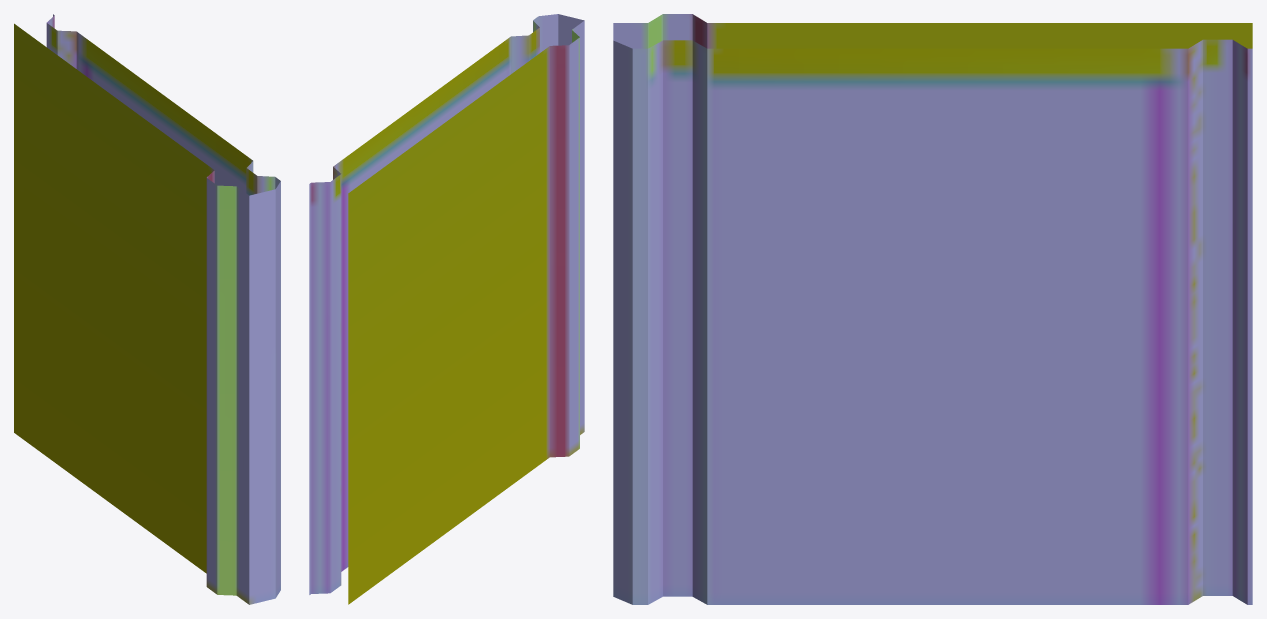
Rendered from Starport_hangar_door.fbx.
3 views of the same model, side by side, from view 1: azimuth 30°, elevation 25°; view 2: azimuth 150°, elevation 25°; view 3: azimuth 270°, elevation 25° (orthographic). The views are drawn at different scales.
Visible parts, largest first — view 1: Starport_hangar_door; view 2: Starport_hangar_door; view 3: Starport_hangar_door.
Part boxes in pixels (x1,y1,x2,y2): Starport_hangar_door: (14,14,280,604); Starport_hangar_door: (309,14,584,604); Starport_hangar_door: (613,14,1252,604).
Bounding box in the file's own units: 5.76 × 43.07 × 44.87.
